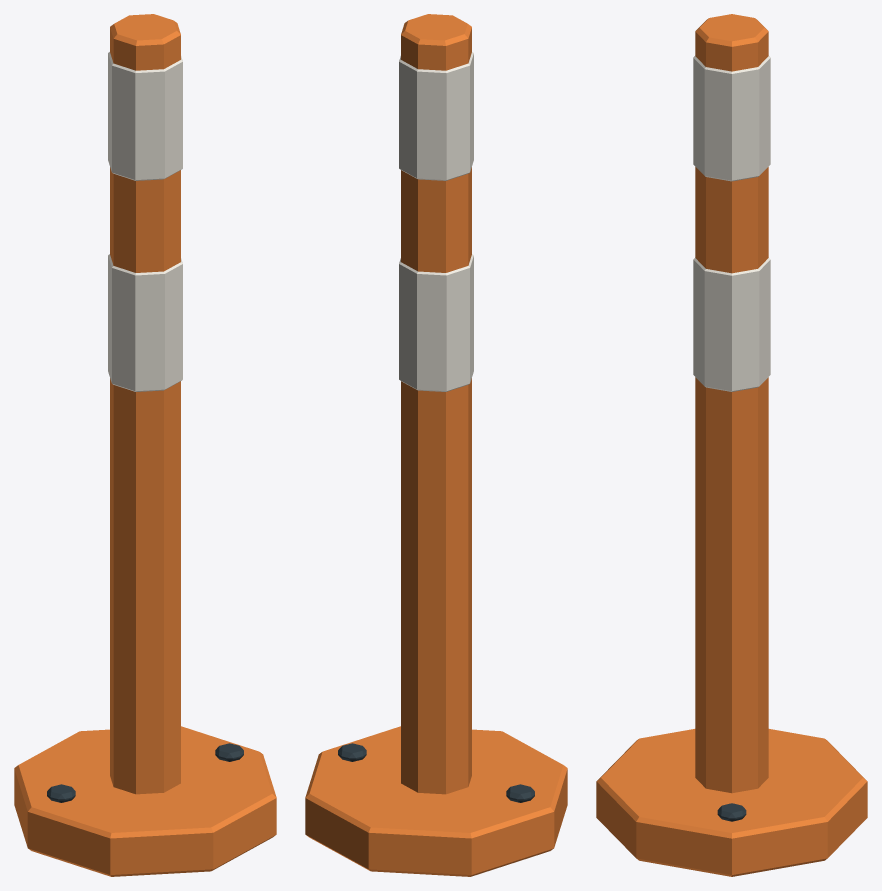
The model's file is b02_flexible_lane_delineator.glb.
3 renders of one model, left to right at view 1: azimuth 30°, elevation 25°; view 2: azimuth 150°, elevation 25°; view 3: azimuth 270°, elevation 25°, orthographic.
Parts seen in each view (by area): view 1: b02_flexible_lane_delineator; view 2: b02_flexible_lane_delineator; view 3: b02_flexible_lane_delineator.
Part boxes in pixels (x1=…): b02_flexible_lane_delineator: x1=14, y1=14, x2=276, y2=876; b02_flexible_lane_delineator: x1=305, y1=14, x2=567, y2=876; b02_flexible_lane_delineator: x1=596, y1=14, x2=867, y2=876.
Size of the model in its own units: 0.28 by 0.905 by 0.28.
